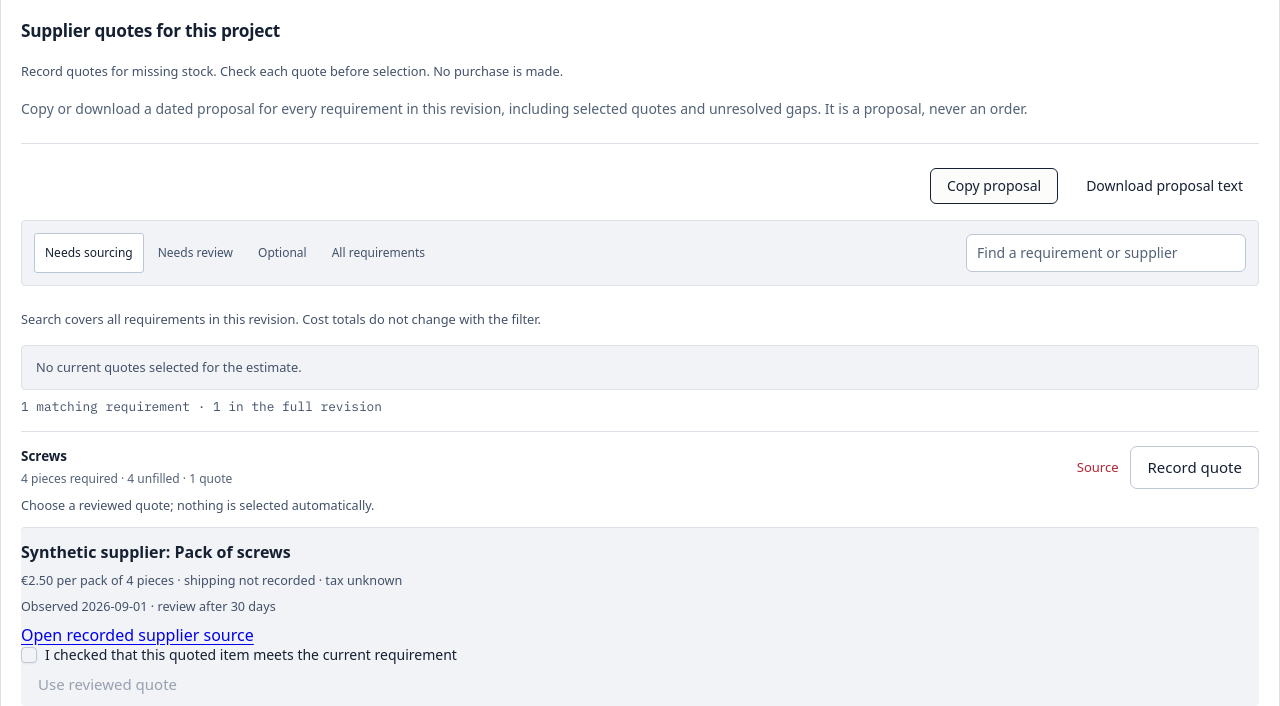
Test case: returns focus after saving with a immediate refresh
This screenshot has width=1280, height=706.
Click the button with aria-label "Record quote for Screws". click: (1195, 468)
box: [1130, 446, 1259, 489]
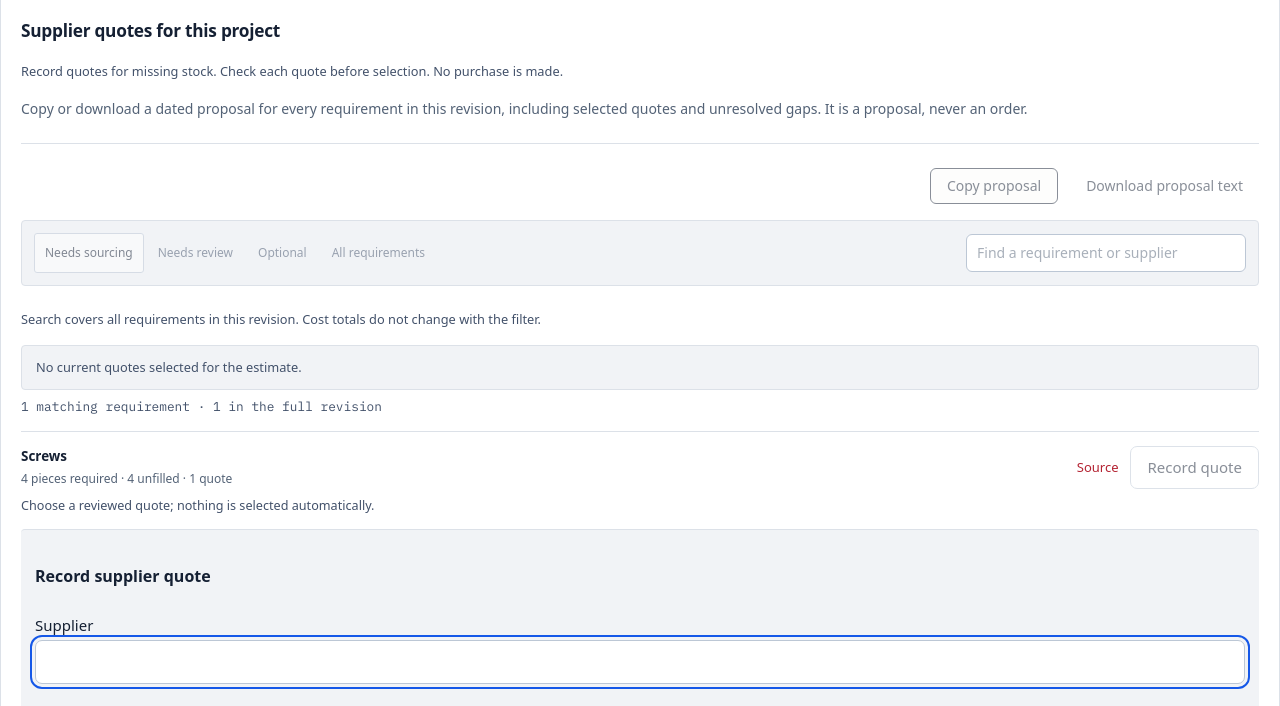
Type "Synthetic supplier" into the field labelled "Supplier". click: (640, 662)
box: [35, 640, 1245, 684]
(page scrolled)
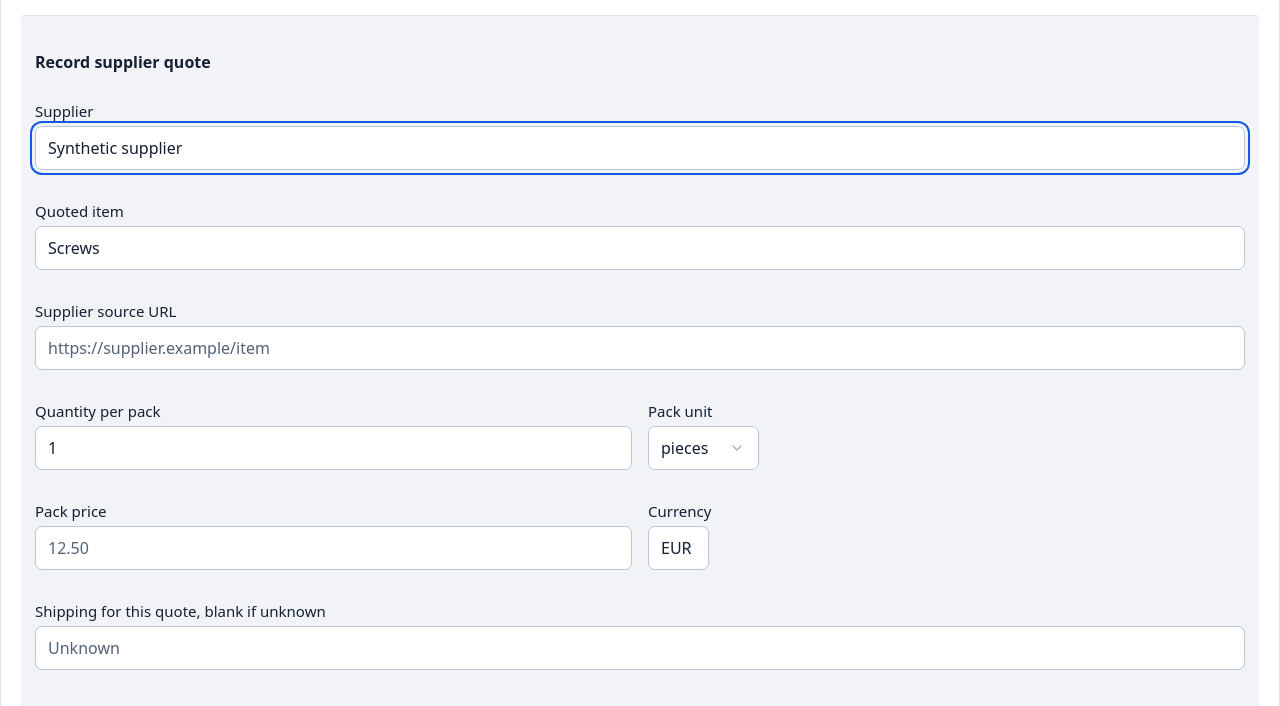
Type "https://supplier.example/screws" into the field labelled "Supplier source URL". click: (640, 348)
box: [35, 326, 1245, 370]
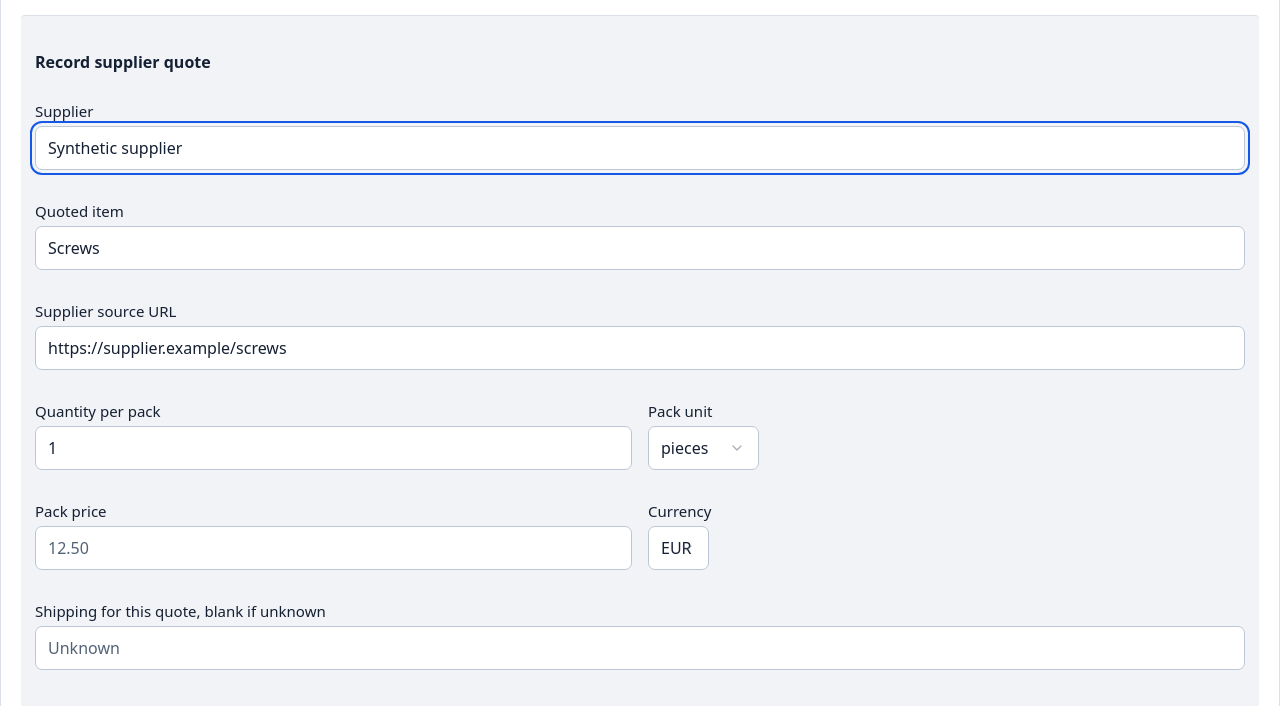
Type "2.50" into the field labelled "Pack price". click: (334, 548)
box: [35, 526, 632, 570]
(page scrolled)
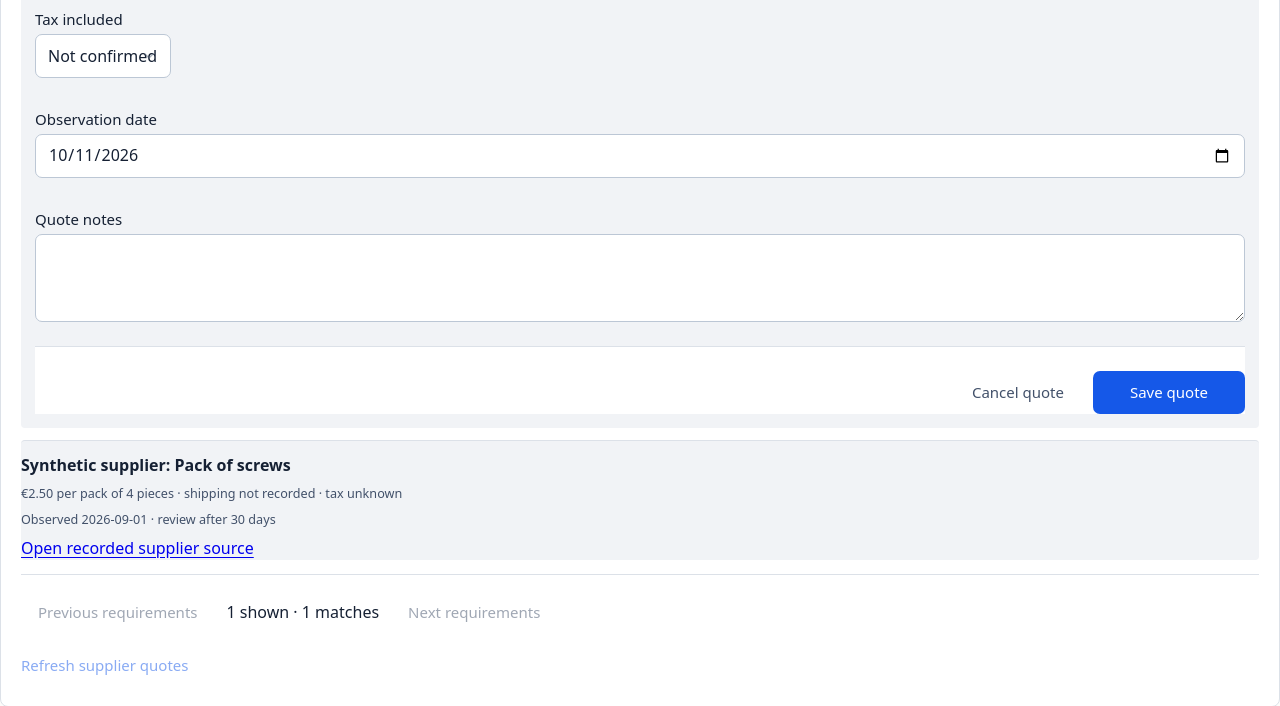
Click the button "Save quote". click: (1169, 392)
box: [1093, 371, 1245, 414]
(page scrolled)
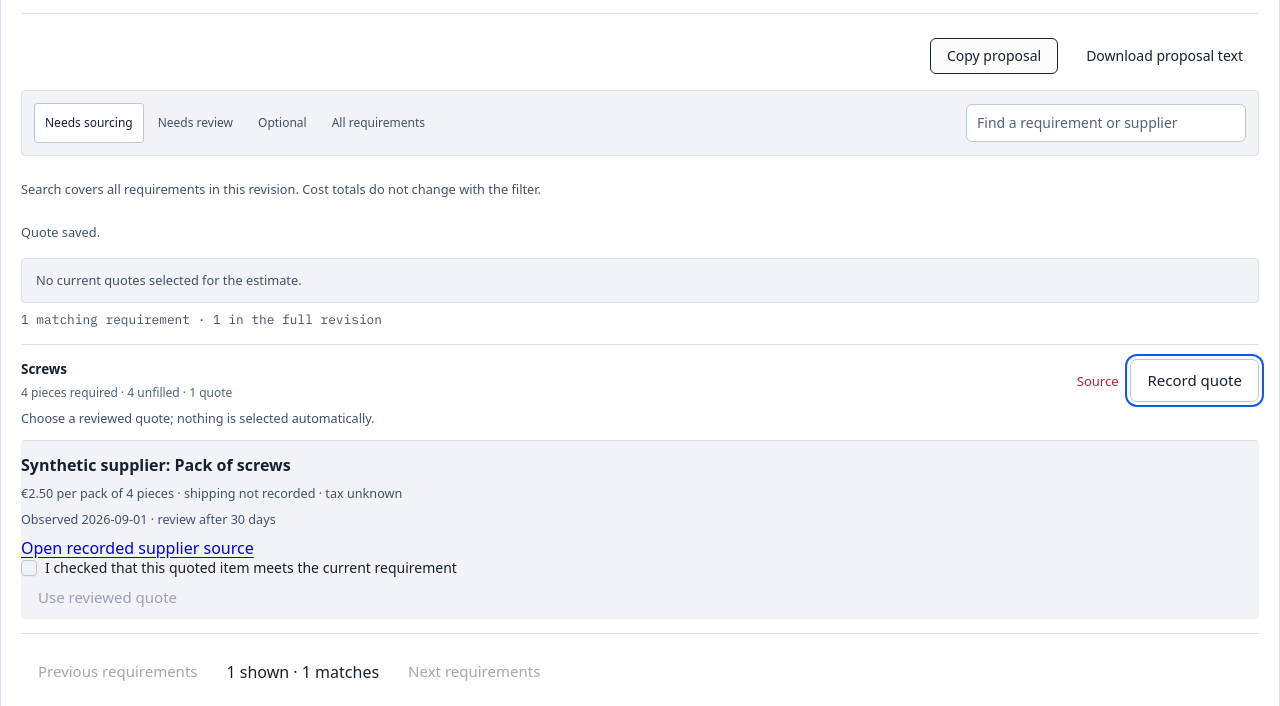
Expected: the text "Quote saved." is shown, [21, 223, 100, 241]
